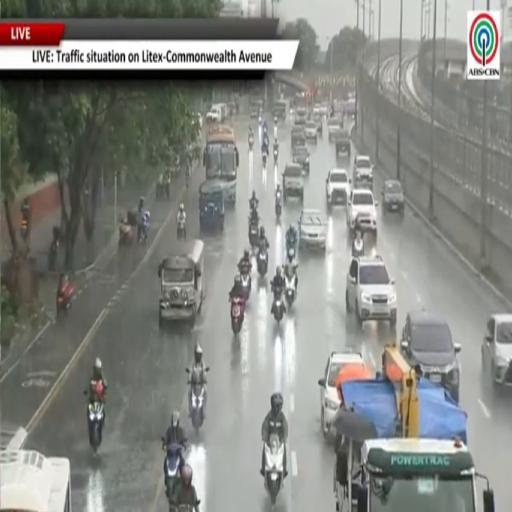bus: (0, 451, 71, 511), (204, 124, 239, 204)
car: (400, 311, 461, 403), (318, 349, 365, 437), (346, 255, 396, 326), (482, 314, 511, 387), (346, 189, 377, 237), (299, 208, 327, 250), (326, 169, 350, 206), (382, 180, 404, 215), (283, 164, 303, 201), (353, 155, 374, 189), (334, 130, 350, 158), (292, 146, 309, 172), (291, 125, 306, 150), (328, 118, 343, 141), (304, 121, 317, 142), (206, 106, 222, 123), (273, 101, 287, 120), (250, 101, 263, 118), (295, 106, 307, 124), (313, 115, 323, 136), (320, 102, 330, 118), (195, 112, 203, 130), (313, 104, 320, 115)
jeepney: (159, 240, 204, 327), (199, 181, 224, 231)
motorcycle: (264, 435, 284, 505), (162, 438, 183, 500), (88, 400, 104, 453), (189, 384, 205, 433), (56, 280, 74, 317), (48, 227, 60, 271), (231, 298, 244, 334), (240, 265, 252, 302), (285, 269, 296, 306), (48, 239, 60, 272), (119, 223, 135, 247), (257, 244, 268, 277), (273, 291, 284, 323), (170, 500, 200, 511), (139, 211, 149, 244), (249, 222, 258, 248), (352, 239, 364, 257), (275, 190, 282, 218), (20, 218, 28, 242), (286, 236, 297, 253), (140, 223, 148, 244), (177, 219, 185, 239), (262, 152, 267, 169), (248, 135, 253, 151), (274, 149, 278, 165), (274, 120, 277, 138), (259, 115, 262, 125)
truck: (335, 346, 494, 511)
